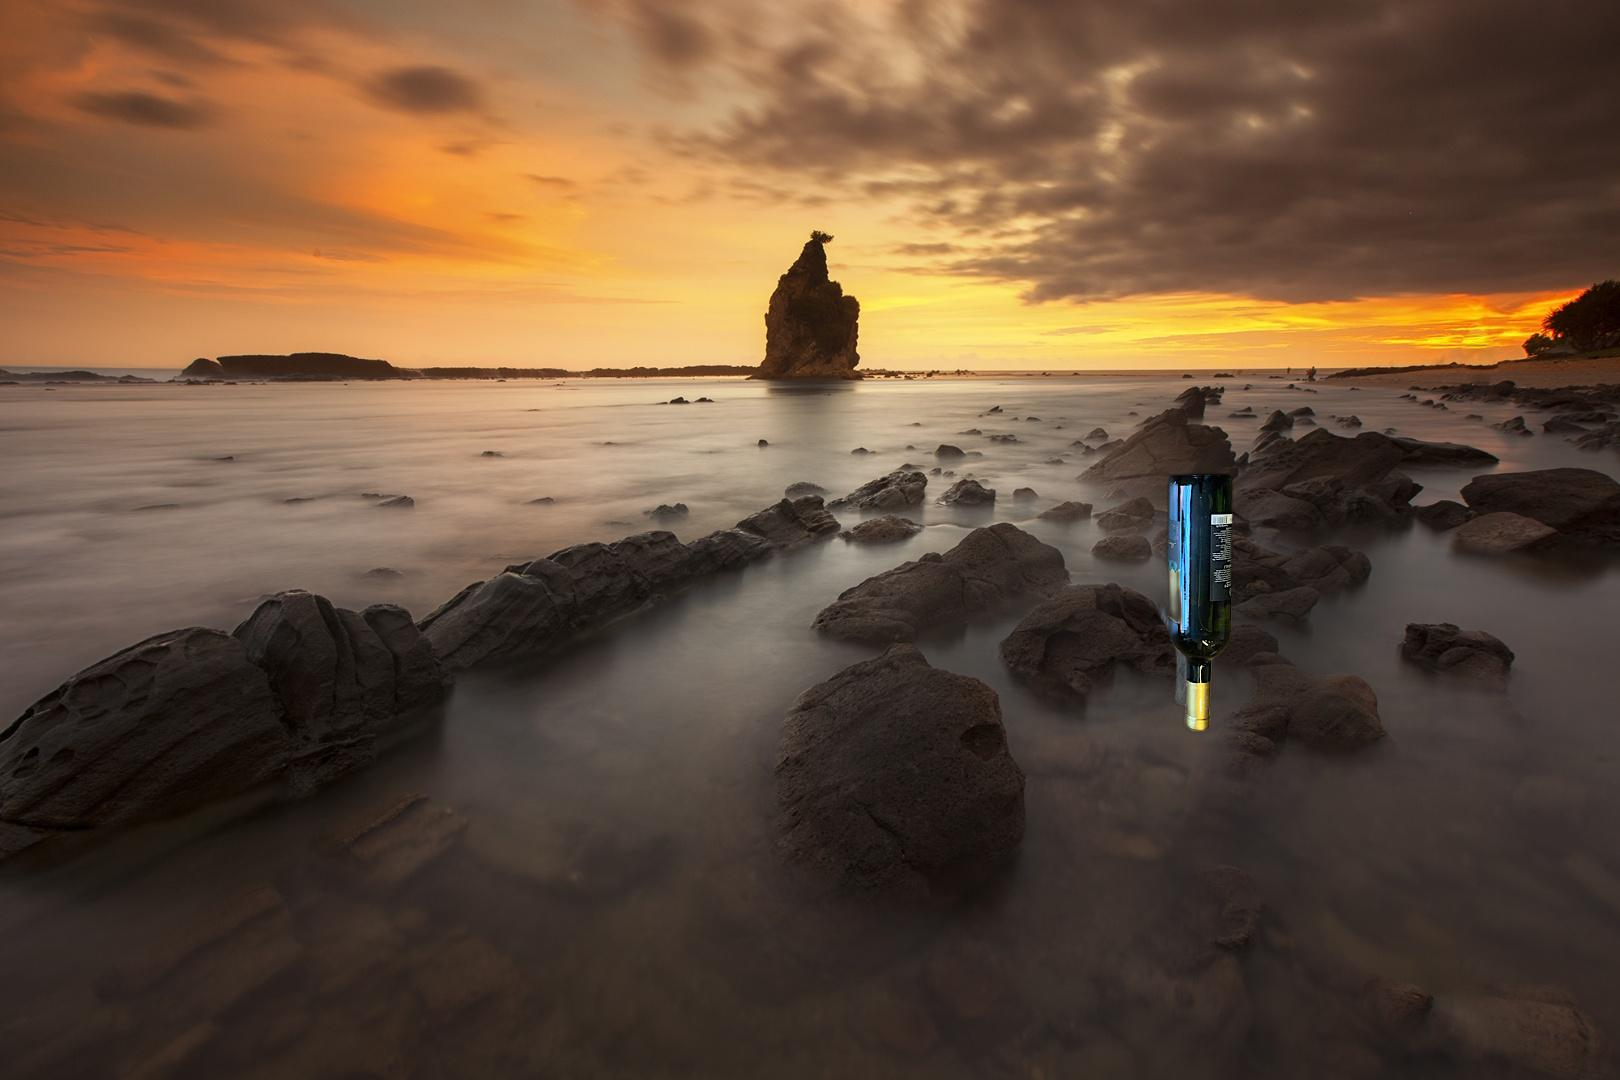glass: (1154, 468, 1238, 738)
trashbox-cardboard: (475, 1023, 1620, 1080)
